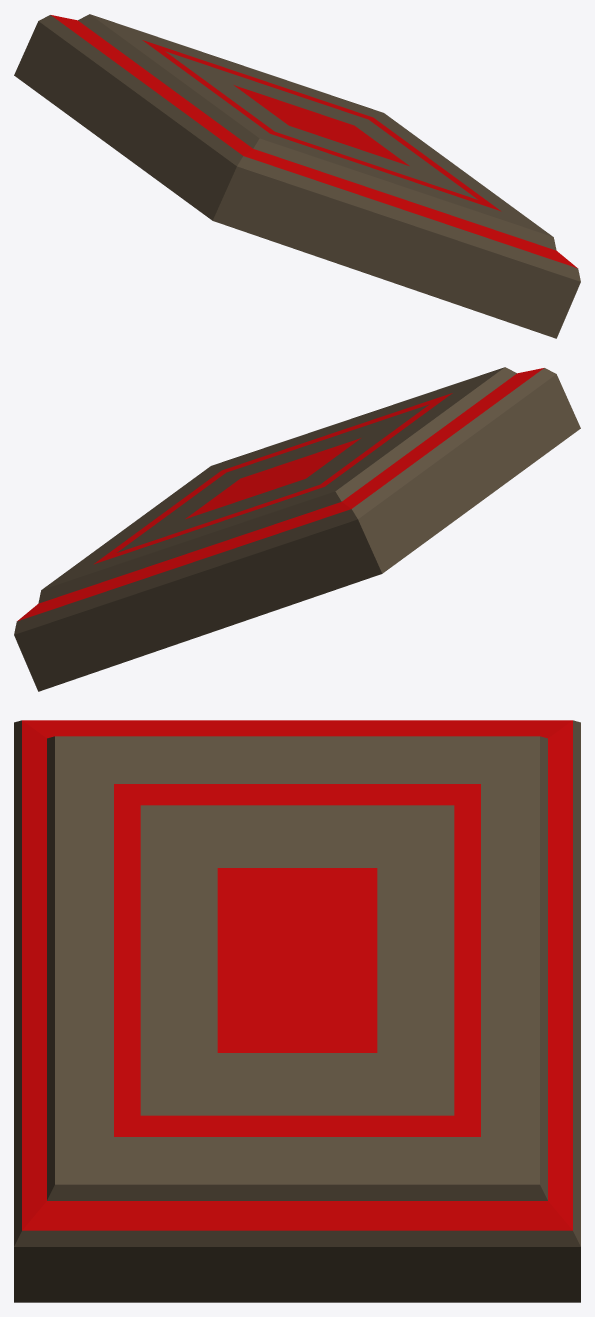
File: ButtonC_Red.glb
The picture shows the model from 3 angles, top to bottom: view 1: azimuth 30°, elevation 25°; view 2: azimuth 150°, elevation 25°; view 3: azimuth 270°, elevation 25°; orthographic projection. The views are drawn at different scales.
Parts seen in each view (by area): view 1: ButtonC; view 2: ButtonC; view 3: ButtonC.
Part boxes in pixels (x1,y1,x2,y2): ButtonC: [14, 14, 580, 338]; ButtonC: [14, 367, 580, 691]; ButtonC: [14, 720, 580, 1302].
Size of what is drawn, in the model's own units: 0.1875 by 0.1259 by 0.1751.
Materials: 2 (2 with a texture image).
